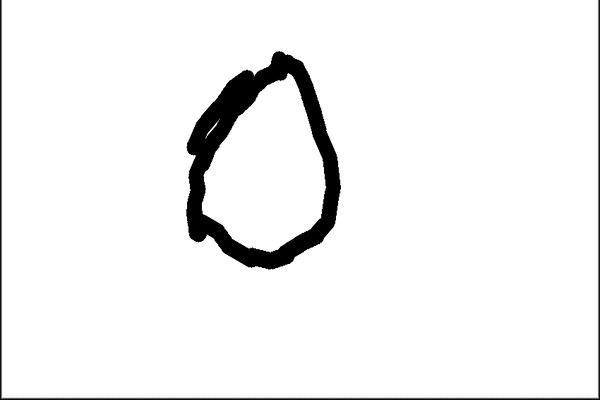O: (172, 37, 355, 281)
